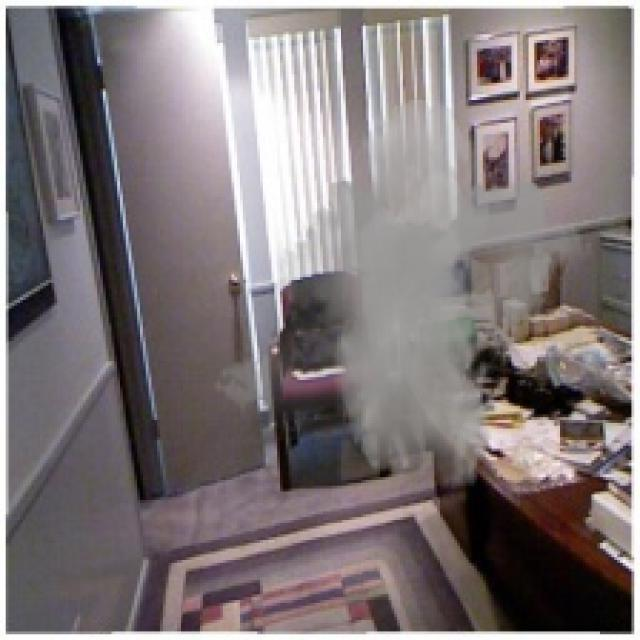Smoke: (212, 97, 594, 492)
